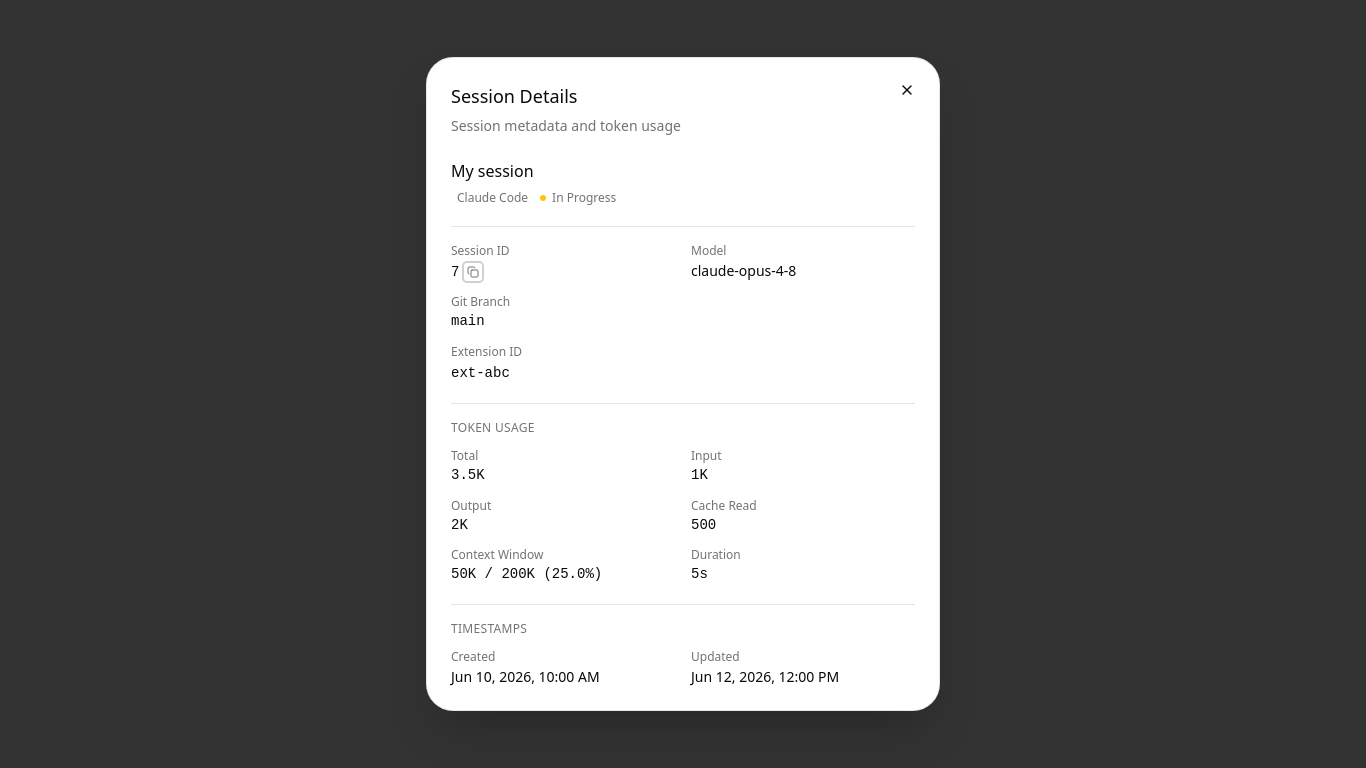
Test: SessionDetailsDialog › copies the session id, with field-specific accessible labels
Click the button named "Copy Session ID" at (473, 272), box [463,262,483,282]
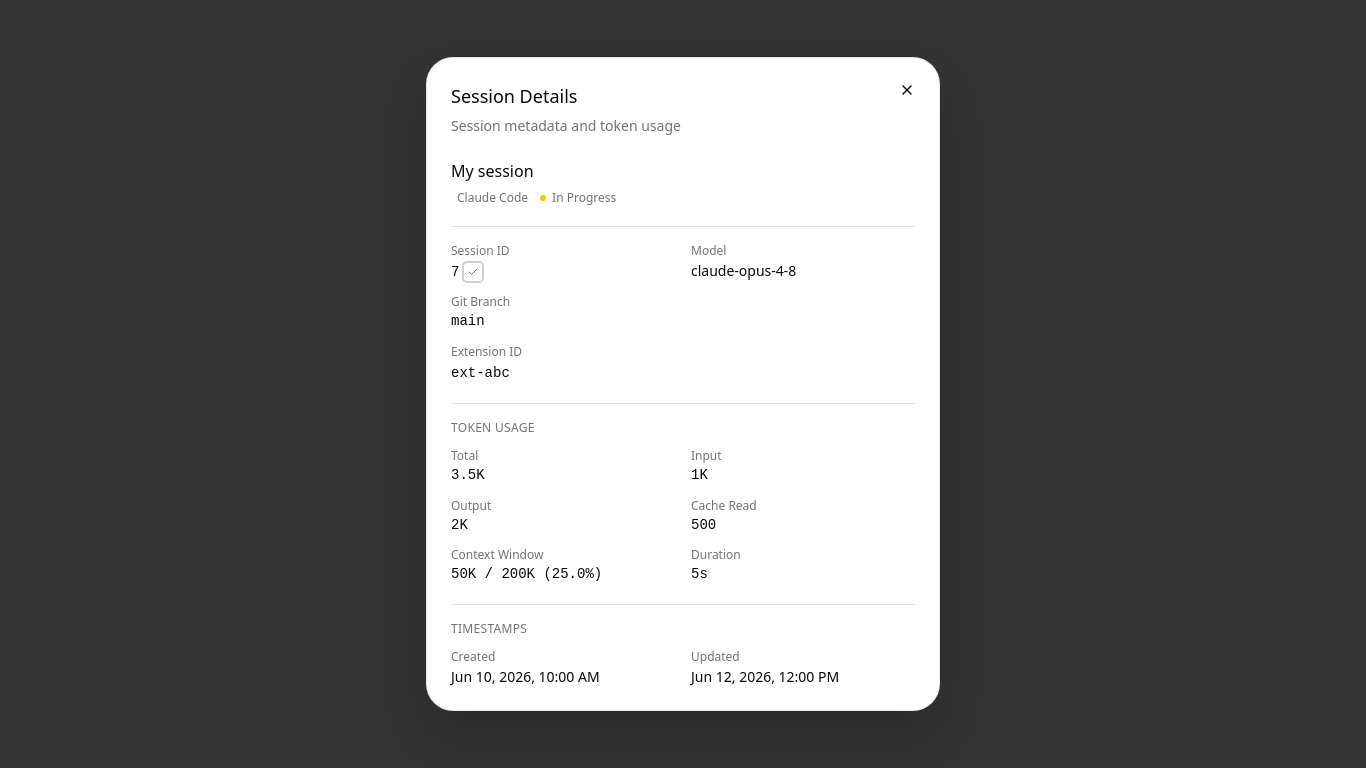
Result: the button named "Copied Session ID" is shown at [463,262,483,282]
